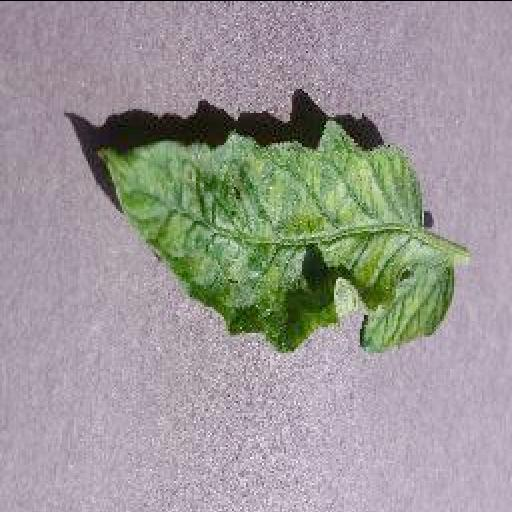disease_tomato: (97, 117, 455, 355)
